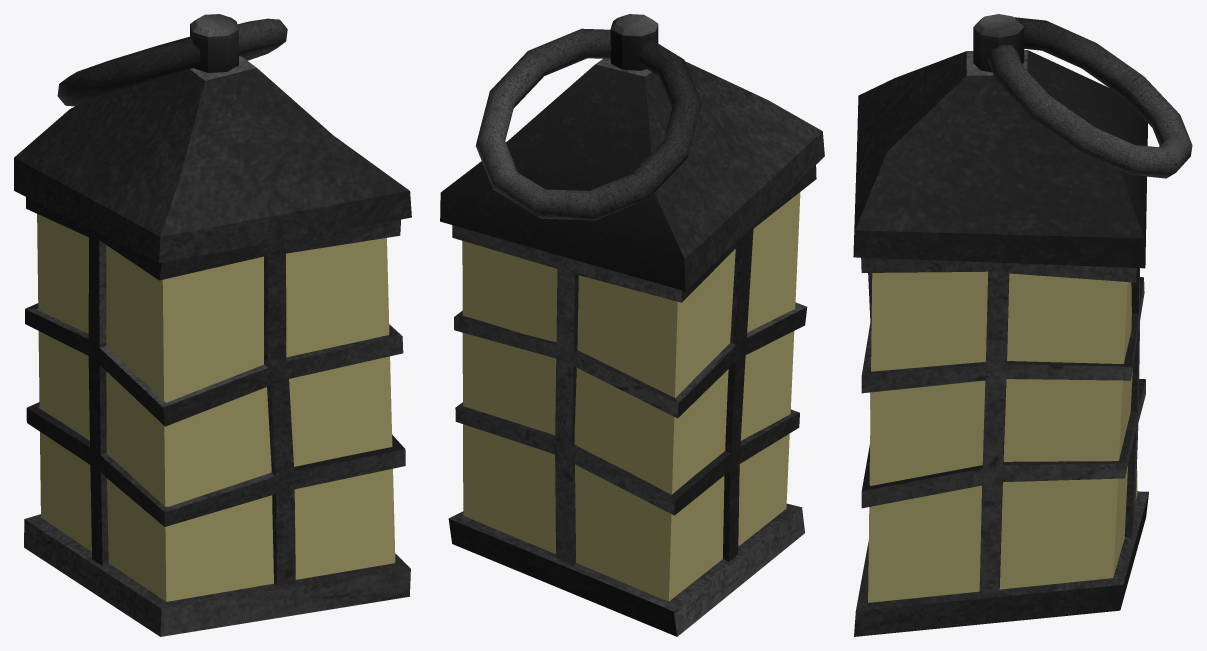
The model's file is SM_Lantern.fbx.
3 renders of one model, left to right at view 1: azimuth 30°, elevation 25°; view 2: azimuth 150°, elevation 25°; view 3: azimuth 270°, elevation 25°, orthographic. The views are drawn at different scales.
Parts seen in each view (by area): view 1: Cube.076; view 2: Cube.076; view 3: Cube.076.
Part boxes in pixels (<box>): Cube.076: <box>14,14,411,636</box>; Cube.076: <box>440,14,824,636</box>; Cube.076: <box>853,14,1192,636</box>.
Size of the model in its own units: 68.46 by 141 by 78.35.
